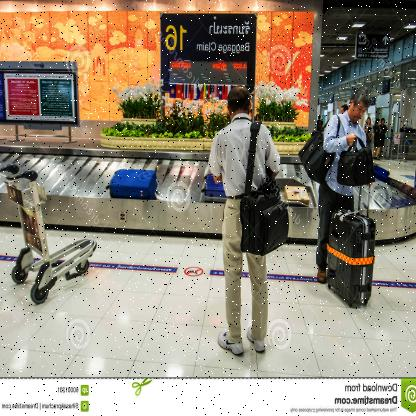airport-trolley: (0, 155, 106, 308)
